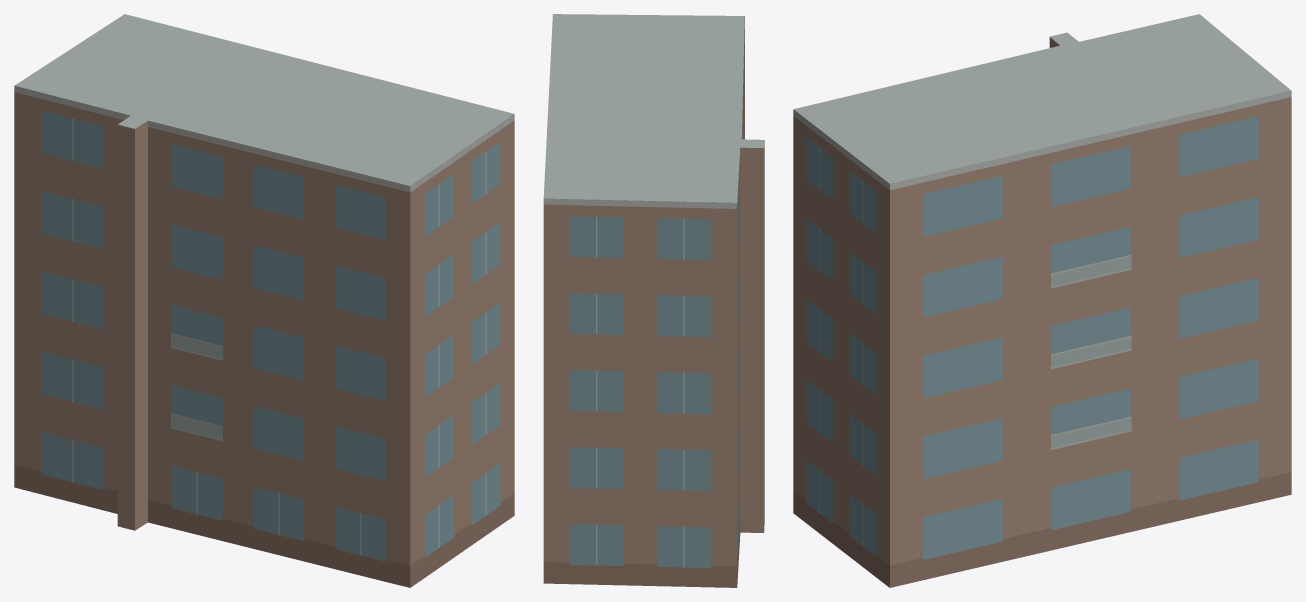
File: survey-upis-32782884.glb
3 views of the same model, side by side, from view 1: azimuth 30°, elevation 25°; view 2: azimuth 150°, elevation 25°; view 3: azimuth 270°, elevation 25° (orthographic). The views are drawn at different scales.
Visible parts, largest first — view 1: survey-upis-32782884.tmp; view 2: survey-upis-32782884.tmp; view 3: survey-upis-32782884.tmp.
Part boxes in pixels (left/top/right/bottom): survey-upis-32782884.tmp: left=14, top=14, right=514, bottom=587; survey-upis-32782884.tmp: left=543, top=14, right=764, bottom=587; survey-upis-32782884.tmp: left=793, top=14, right=1291, bottom=587.
Bounding box in the file's own units: 13.99 × 15.5 × 17.33.
